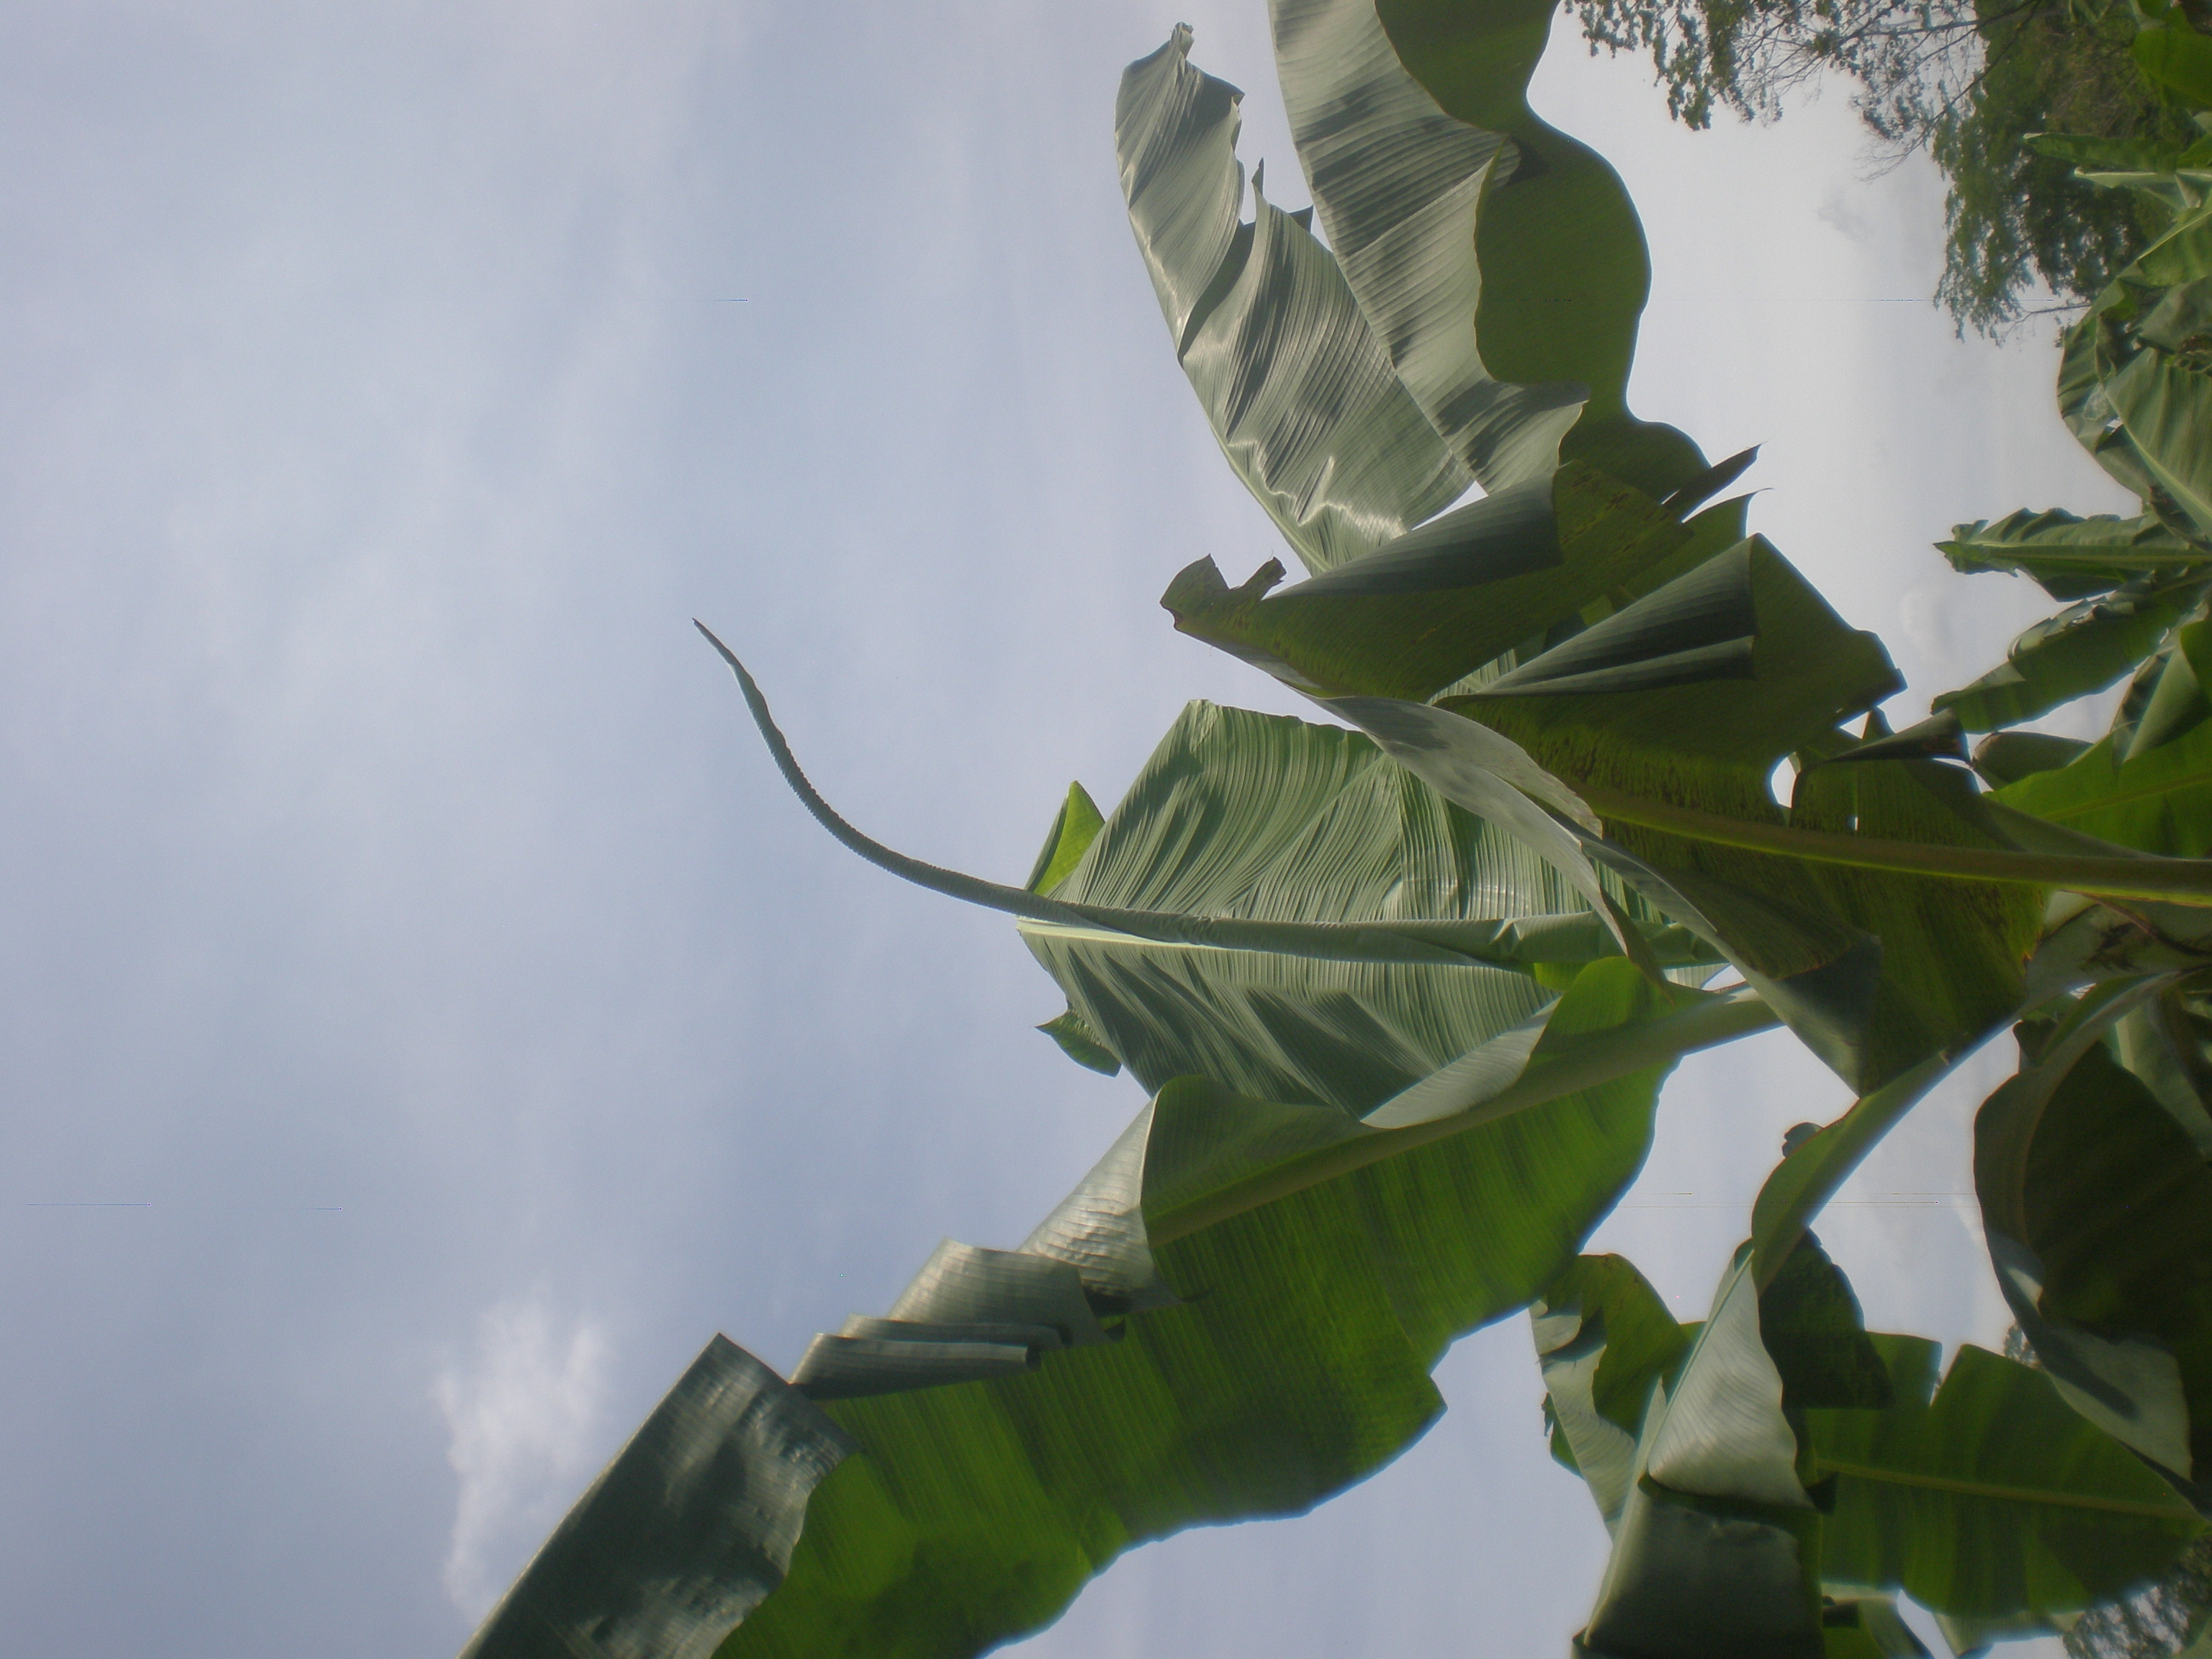candleleafs: (693, 619, 1519, 990)
